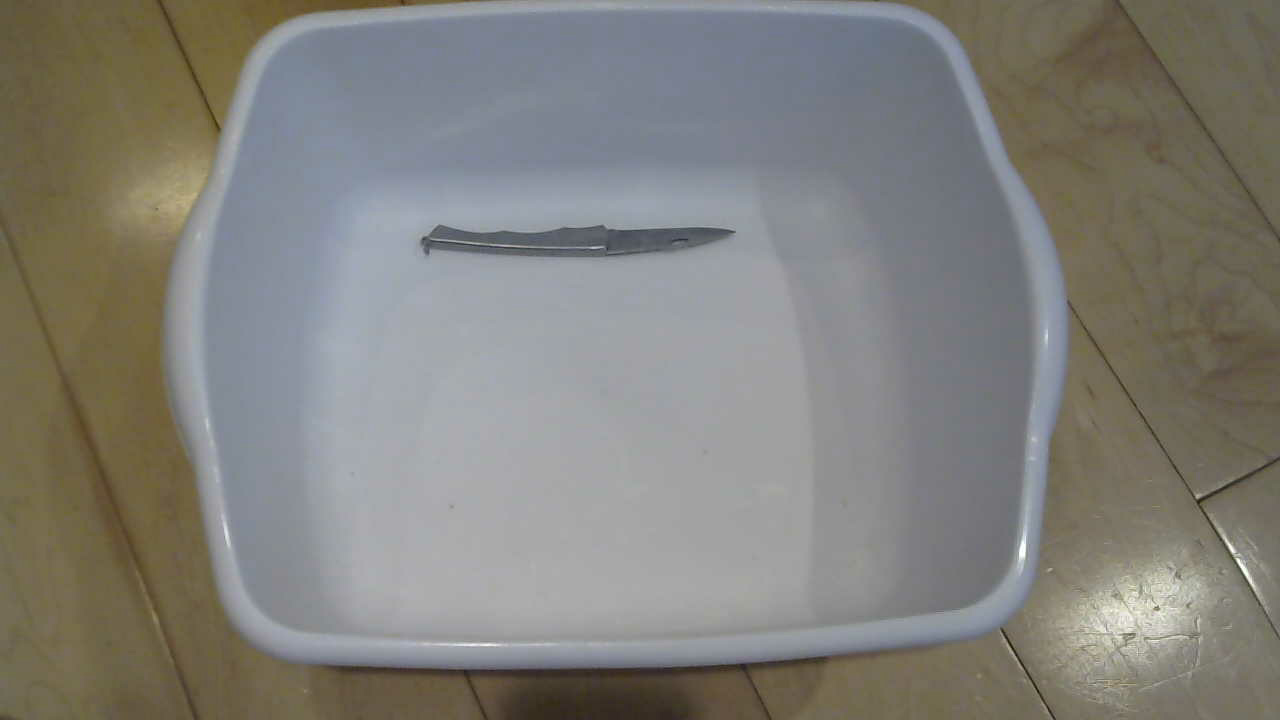knife: (413, 217, 758, 270)
